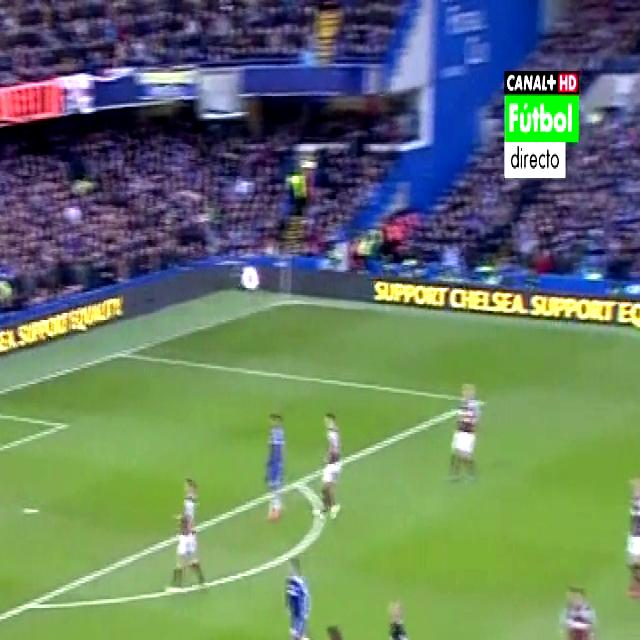referee: (368, 590, 423, 640)
soccer-player: (160, 468, 208, 610), (303, 391, 350, 528), (272, 537, 322, 640), (442, 359, 482, 486), (262, 401, 292, 525), (551, 574, 596, 640), (313, 611, 363, 640)
